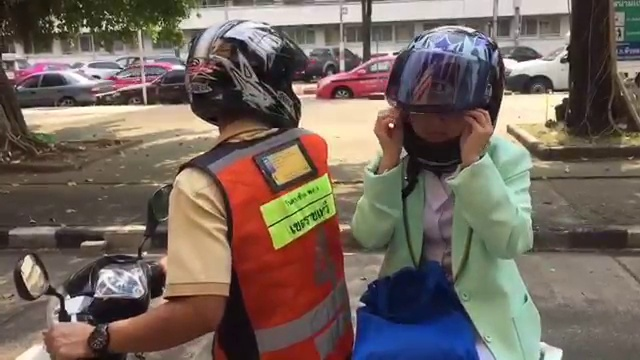helmet: (387, 17, 505, 176), (179, 11, 319, 130)
